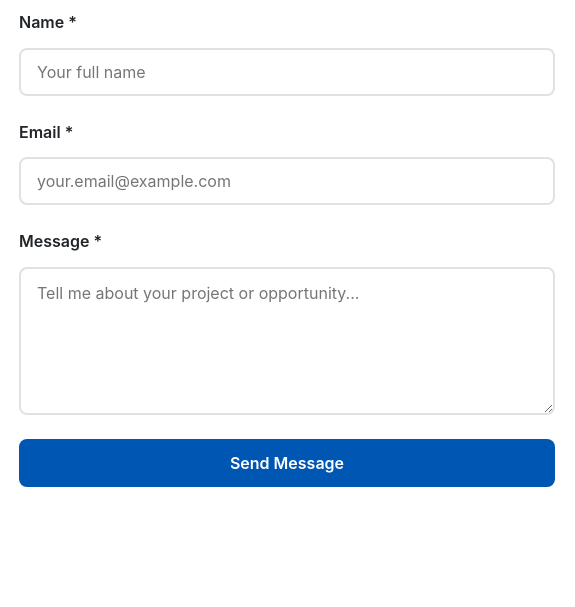
Component Accessibility Tests › Contact Form Component › should show validation errors accessibly
Click the button "Send Message".
click(287, 463)  # box [19,439,555,487]
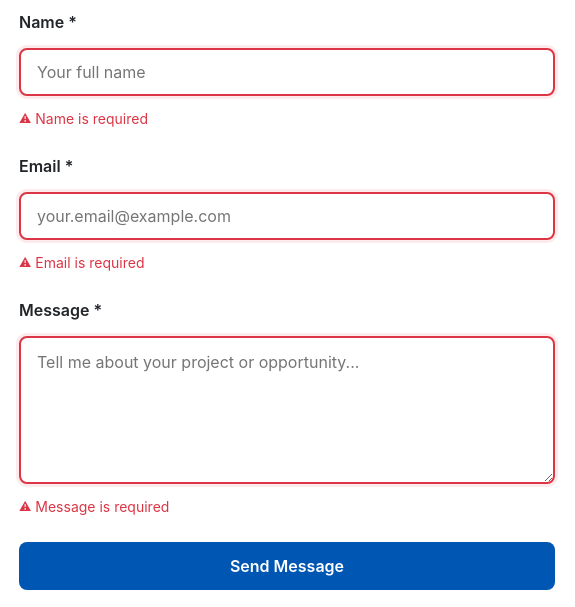
Check: the message "Name is required" is shown, box [35,110,148,127]
